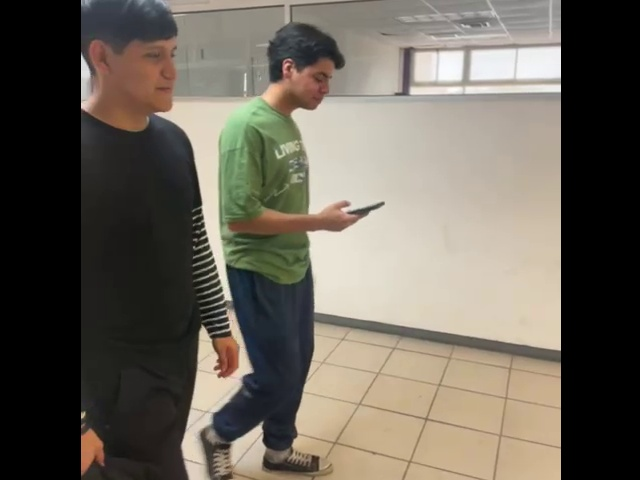mixto2: (334, 187, 392, 218)
